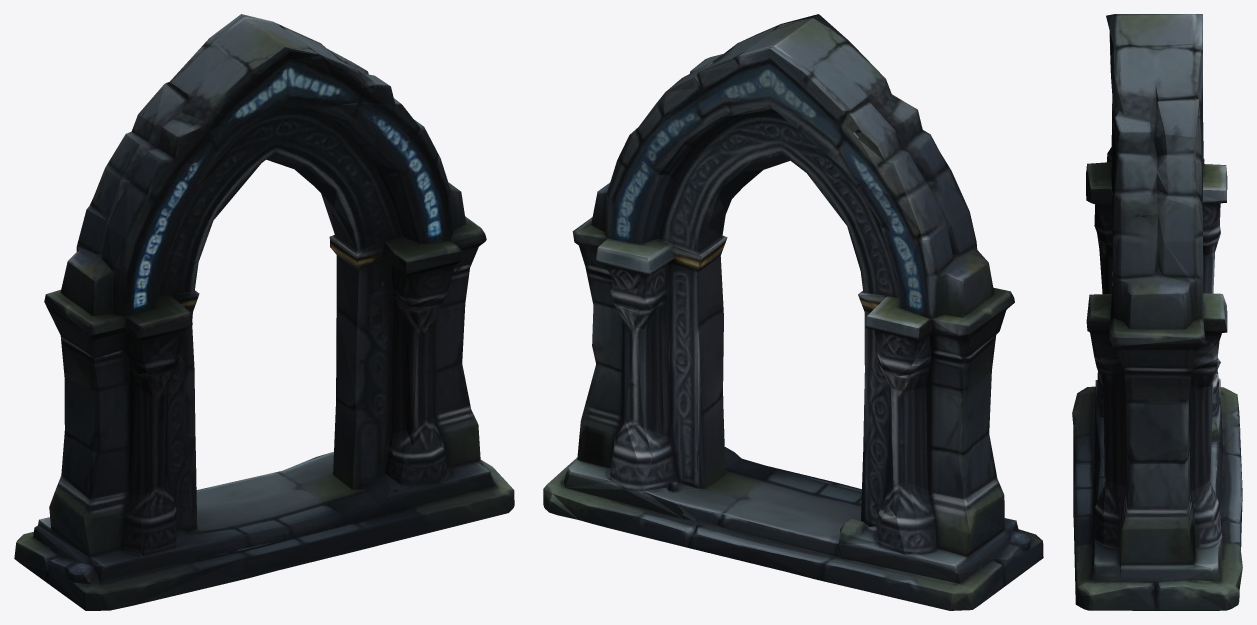
The model's file is archway_gate.glb.
The picture shows the model from 3 angles, left to right: view 1: azimuth 30°, elevation 25°; view 2: azimuth 150°, elevation 25°; view 3: azimuth 270°, elevation 25°; orthographic projection.
Parts seen in each view (by area): view 1: world; view 2: world; view 3: world.
Part boxes in pixels (box(x1,y1,x2,y2)): world: box(14, 14, 514, 610); world: box(543, 14, 1043, 610); world: box(1072, 14, 1242, 610).
Size of the model in its own units: 0.8982 by 0.9985 by 0.313.
Materials: 1 (1 with a texture image).
